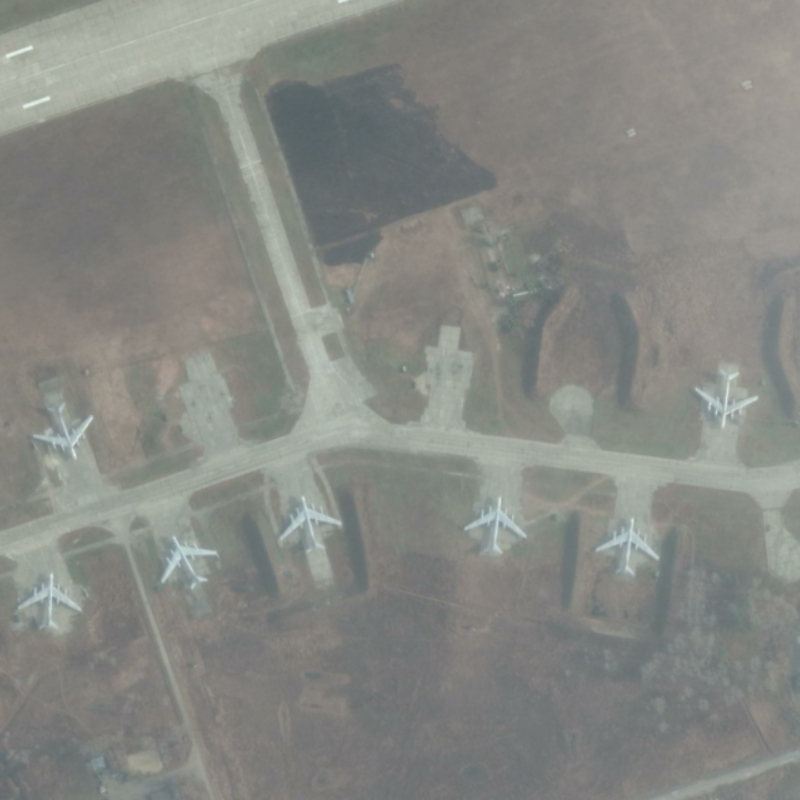A17: (462, 494, 528, 557), (694, 368, 760, 431), (276, 494, 343, 556), (594, 516, 661, 578), (16, 571, 83, 631), (31, 401, 95, 462), (159, 534, 219, 592)
